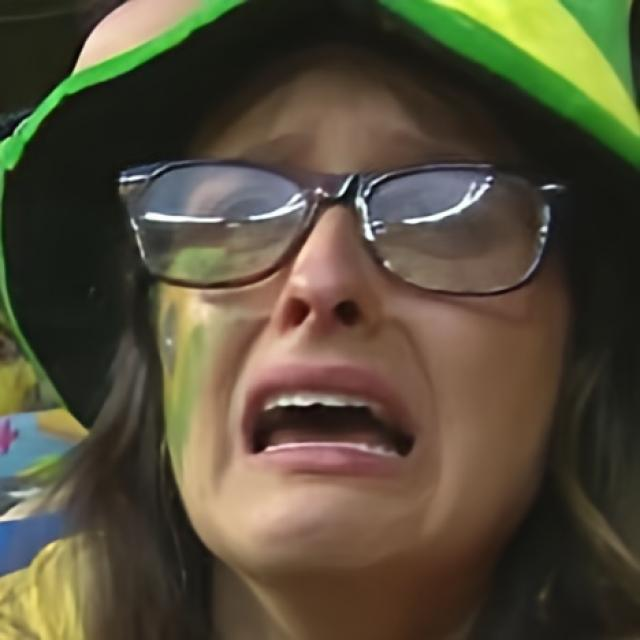sad: (154, 57, 566, 585)
